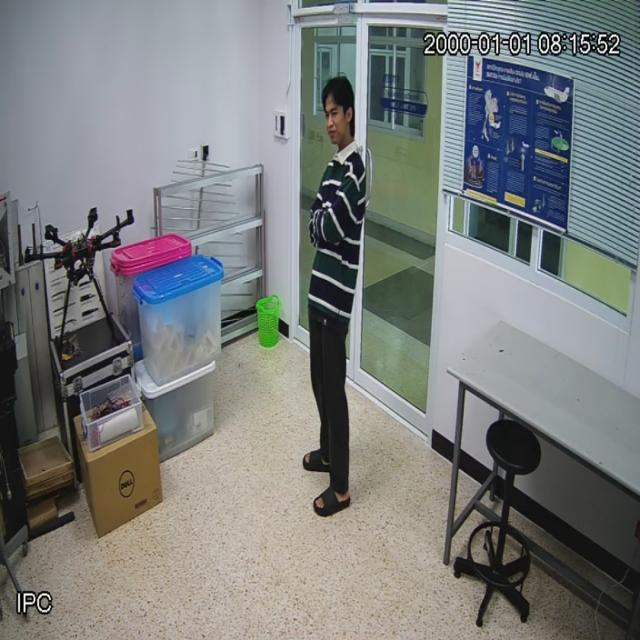normal: (293, 62, 382, 528)
